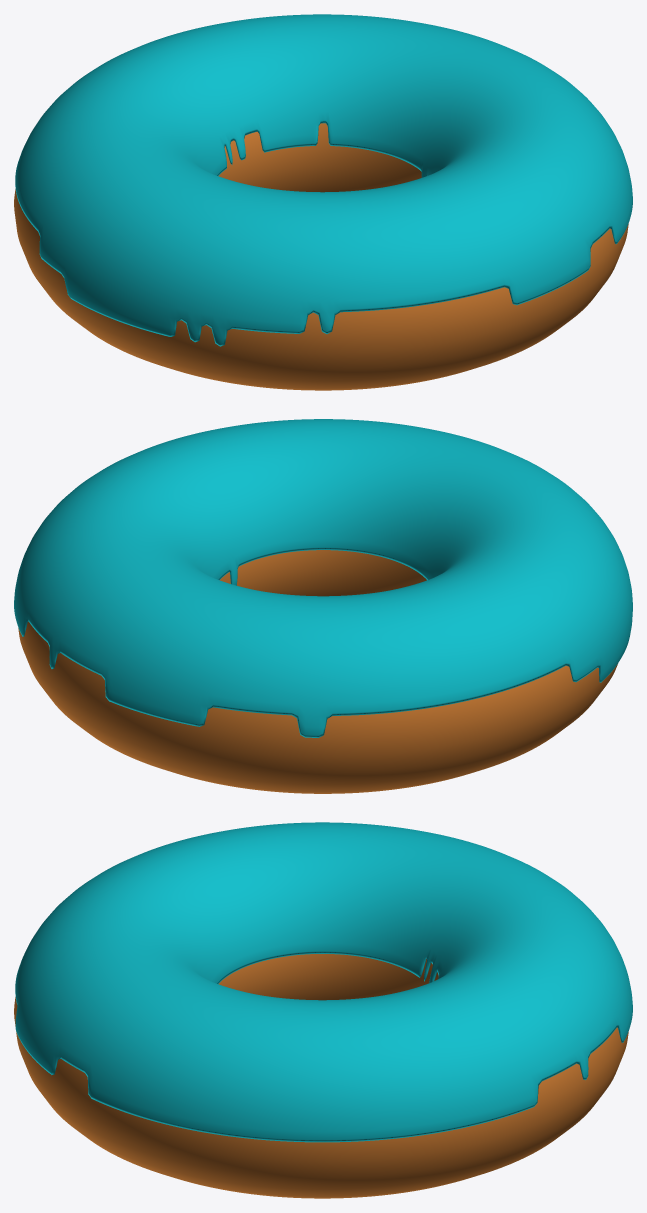
The model's file is donut1.fbx.
The picture shows the model from 3 angles, top to bottom: view 1: azimuth 30°, elevation 25°; view 2: azimuth 150°, elevation 25°; view 3: azimuth 270°, elevation 25°; orthographic projection.
Parts seen in each view (by area): view 1: Torus001; view 2: Torus001; view 3: Torus001.
Boxes of the visible parts, <box> form: Torus001: <box>14,14,632,390</box>; Torus001: <box>14,419,632,793</box>; Torus001: <box>14,822,632,1198</box>.
Bounding box in the file's own units: 122 × 38.94 × 122.
